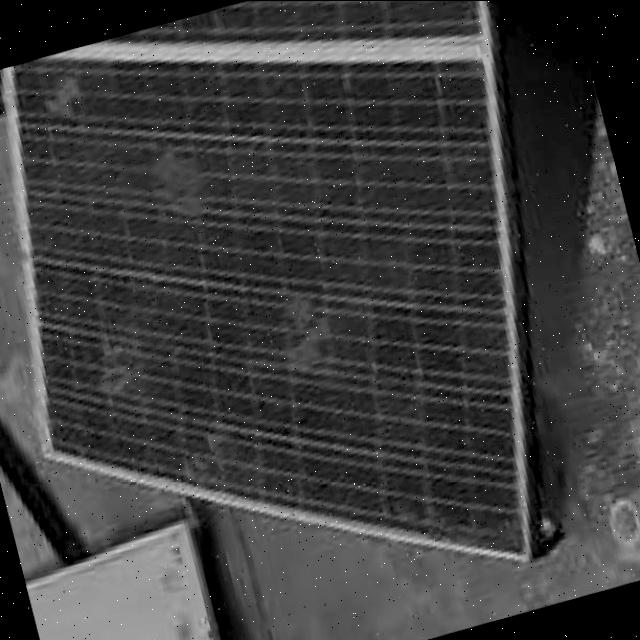Anomaly Solar Panel: (0, 56, 538, 553)
Surface Contaminant: (134, 131, 224, 223), (272, 286, 343, 375), (425, 503, 530, 553), (38, 59, 95, 118)
